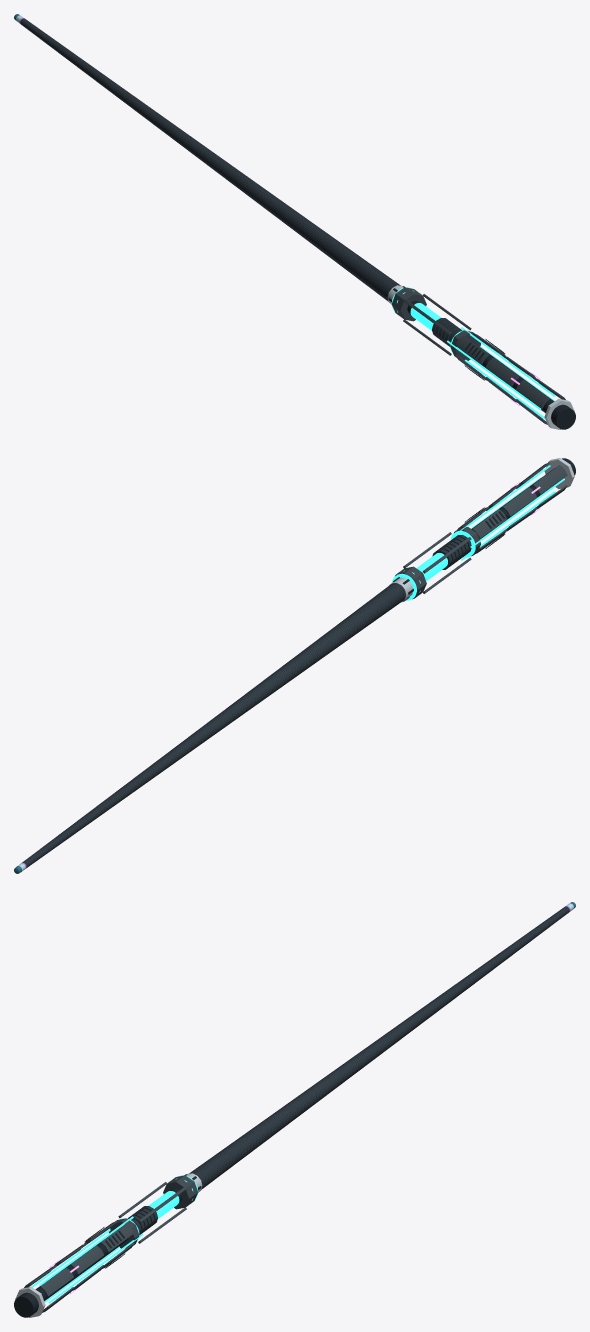
File: cue-holo-laser.glb
3 renders of one model, top to bottom at view 1: azimuth 30°, elevation 25°; view 2: azimuth 150°, elevation 25°; view 3: azimuth 330°, elevation 25°, orthographic.
Parts seen in each view (by area): view 1: cue-holo-laser, holo-laser_Blender_cyberShell, holo-laser_Blender_cyberFrame, holo-laser_Blender_energy; view 2: cue-holo-laser, holo-laser_Blender_cyberShell, holo-laser_Blender_cyberFrame, holo-laser_Blender_energy; view 3: cue-holo-laser, holo-laser_Blender_cyberShell, holo-laser_Blender_cyberFrame, holo-laser_Blender_energy.
Boxes of the visible parts, left/top/right/bottom form: cue-holo-laser: left=16, top=15, right=400, bottom=301; holo-laser_Blender_cyberShell: left=391, top=287, right=565, bottom=424; holo-laser_Blender_cyberFrame: left=387, top=285, right=575, bottom=429; holo-laser_Blender_energy: left=391, top=287, right=555, bottom=419; cue-holo-laser: left=18, top=583, right=405, bottom=871; holo-laser_Blender_cyberShell: left=395, top=462, right=567, bottom=599; holo-laser_Blender_cyberFrame: left=389, top=458, right=575, bottom=602; holo-laser_Blender_energy: left=392, top=465, right=564, bottom=600; cue-holo-laser: left=189, top=903, right=573, bottom=1189; holo-laser_Blender_cyberShell: left=24, top=1175, right=198, bottom=1312; holo-laser_Blender_cyberFrame: left=14, top=1173, right=202, bottom=1317; holo-laser_Blender_energy: left=31, top=1175, right=198, bottom=1303.
Bounding box in the file's own units: 0.042 × 0.042 × 1.41.
11 materials, 1 textured.
